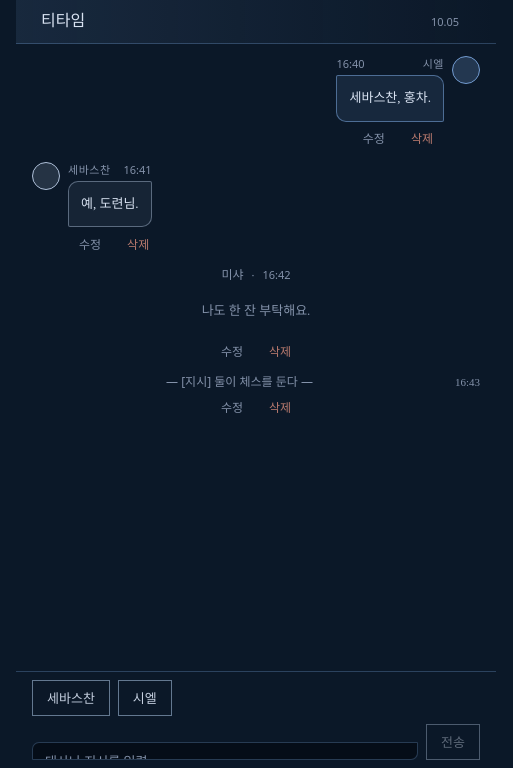
Test case: speak 자동 스크롤 (R-CHAT-003 · R-CHAT-005) › TC-CH-072: (b) 위쪽(거리 > 120) — 등장·성공 모두 scrollTop 그대로, 성공 뒤 배지 「새 메시지」
(page scrolled)
Click the button with aria-label "세바스찬 대사 생성" at (71, 698), box [32,680,110,716]
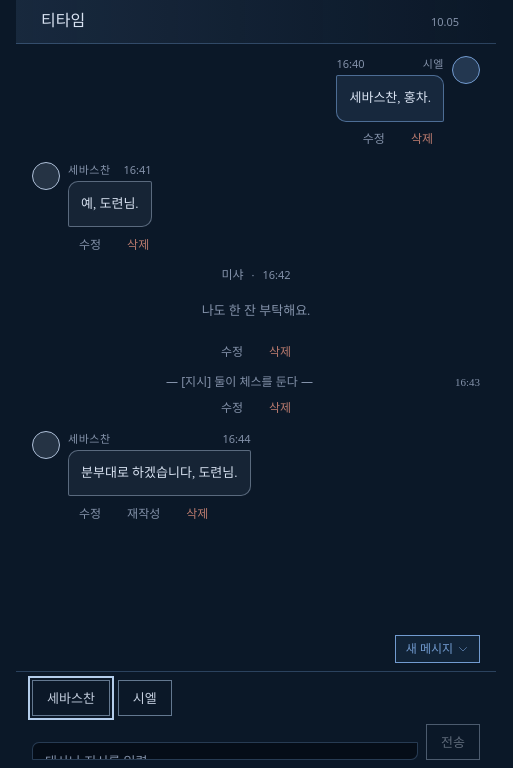
Check: the button with aria-label "새 메시지 보기, 맨 아래로 이동" reads "새 메시지", box [395,635,480,663]
